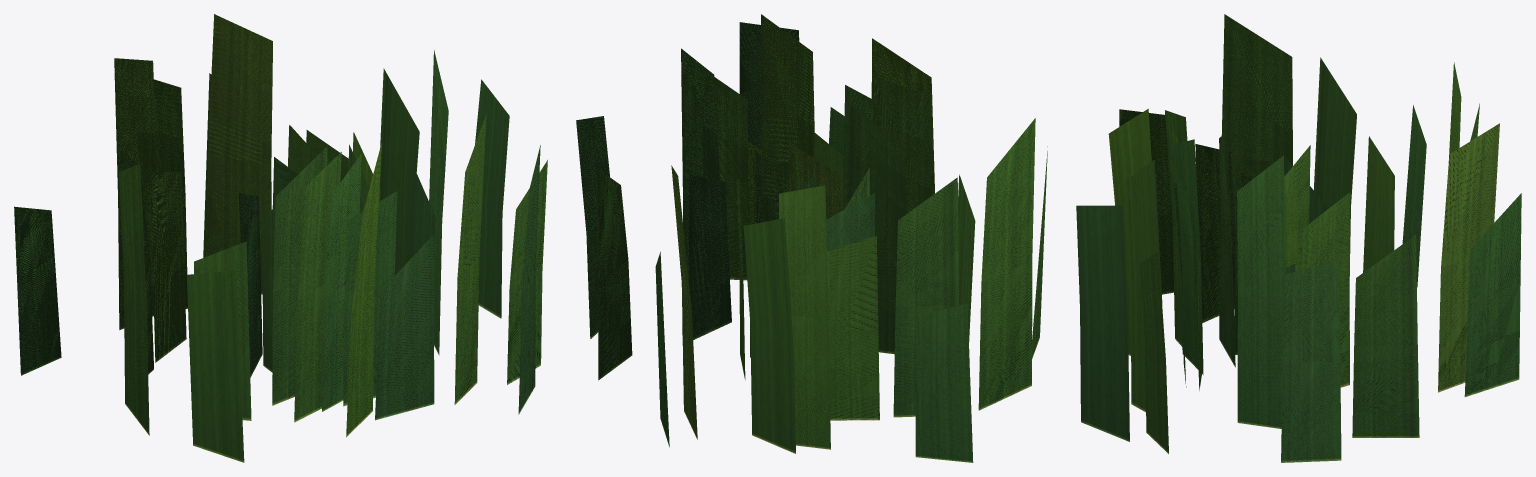
Rendered from Grass_Cut.fbx.
The picture shows the model from 3 angles, left to right: view 1: azimuth 30°, elevation 25°; view 2: azimuth 150°, elevation 25°; view 3: azimuth 270°, elevation 25°; orthographic projection. The views are drawn at different scales.
Parts seen in each view (by area): view 1: Grass_Cut; view 2: Grass_Cut; view 3: Grass_Cut.
Boxes of the visible parts, x1,y1,x2,y2 form: Grass_Cut: (14,14,547,462); Grass_Cut: (576,14,1047,462); Grass_Cut: (1076,14,1521,462).
Size of the model in its own units: 0.2367 by 0.15 by 0.2189.
Materials: 1 (1 with a texture image).
